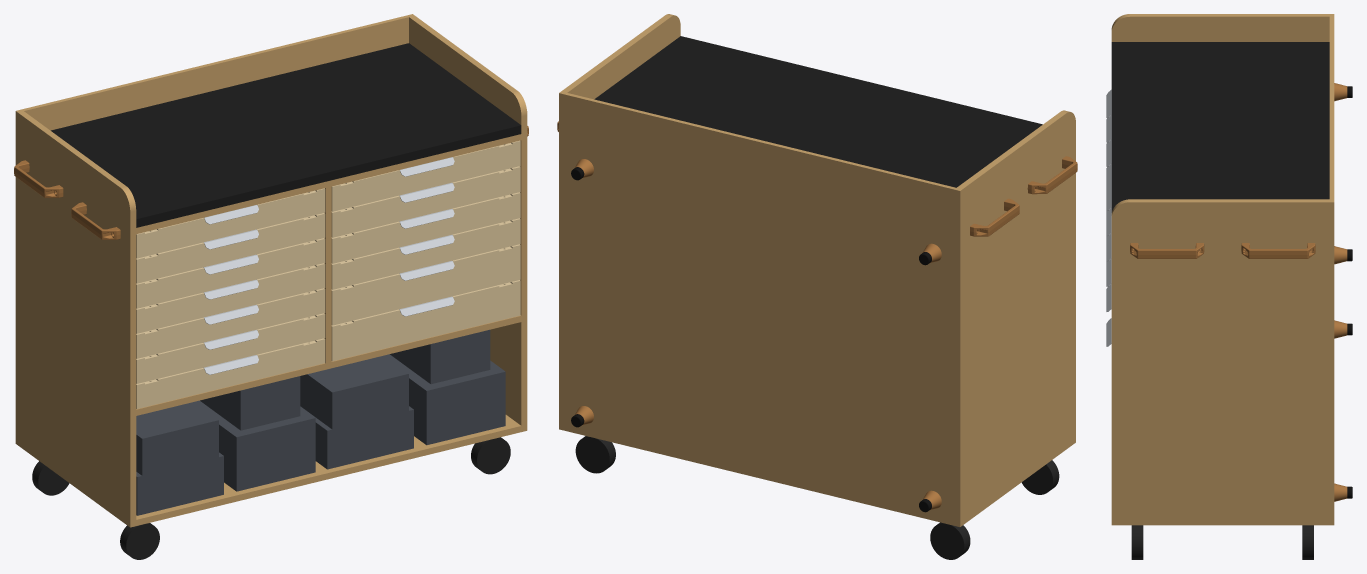
File: layout_40in_600d_spaced.glb
3 views of the same model, side by side, from view 1: azimuth 30°, elevation 25°; view 2: azimuth 150°, elevation 25°; view 3: azimuth 270°, elevation 25° (orthographic). The views are drawn at different scales.
Visible parts, largest first — view 1: front (×13), top, A, DP832A (×2), E, DM3068 (×2), B, DG1032Z (×2), MSO2302A (×2), C, wheel (×3), F (+3 smaller); view 2: E, A, top, B, wheel (×3), handle (×2); view 3: B, top, A, handle (×2), E, wheel (×2).
Part boxes in pixels (x1,y1,x2,y2): front (×13): [136, 140, 520, 408]; top: [51, 43, 521, 227]; A: [15, 110, 136, 527]; DP832A (×2): [194, 354, 505, 491]; E: [19, 14, 411, 130]; DM3068 (×2): [136, 355, 408, 475]; B: [409, 14, 527, 431]; DG1032Z (×2): [136, 406, 413, 515]; MSO2302A (×2): [200, 329, 490, 430]; C: [136, 415, 521, 525]; wheel (×3): [32, 437, 510, 559]; F: [136, 315, 521, 415]; E: [562, 92, 958, 526]; A: [954, 110, 1075, 526]; top: [594, 36, 1042, 187]; B: [559, 14, 680, 430]; wheel (×3): [575, 436, 1059, 559]; handle (×2): [970, 156, 1077, 236]; B: [1111, 199, 1334, 525]; top: [1111, 42, 1329, 212]; A: [1111, 14, 1334, 41]; handle (×2): [1130, 243, 1315, 258]; E: [1329, 15, 1334, 200]; wheel (×2): [1131, 525, 1313, 559].
Bounding box in the file's own units: 1.29 × 1.09 × 0.6641.
